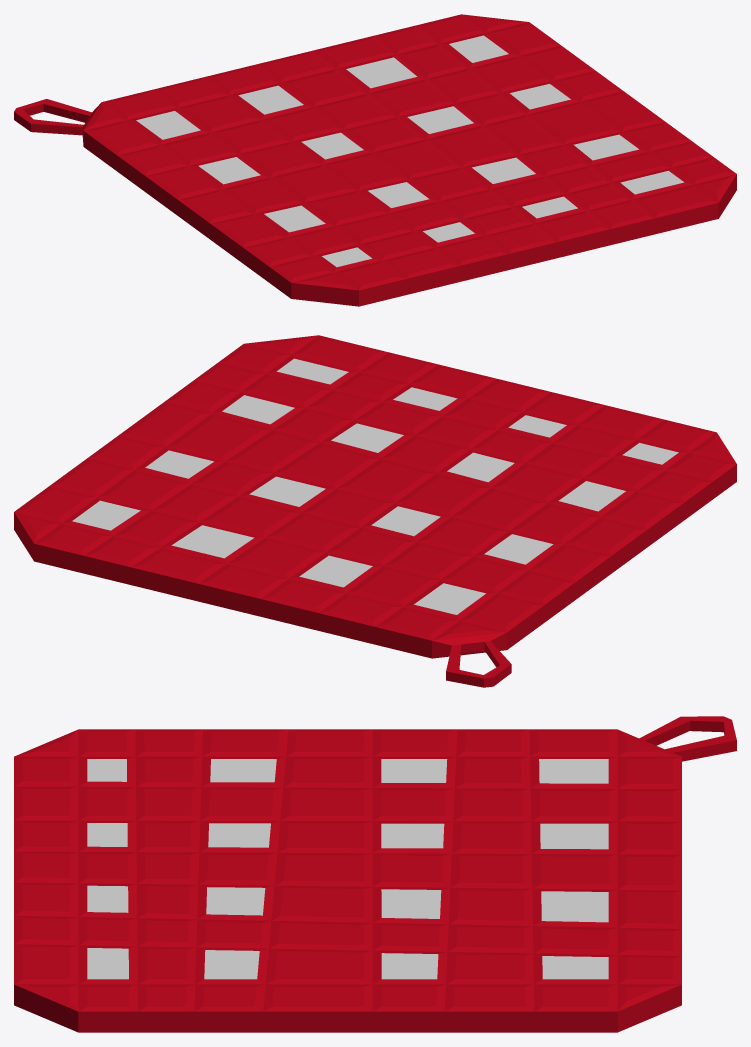
Rendered from Kärpänen_PataLappu.fbx.
3 views of the same model, one above another, from view 1: azimuth 30°, elevation 25°; view 2: azimuth 150°, elevation 25°; view 3: azimuth 270°, elevation 25° (orthographic). The views are drawn at different scales.
Visible parts, largest first — view 1: Cube.103; view 2: Cube.103; view 3: Cube.103.
Boxes of the visible parts, box(x1,y1,x2,y2) form: Cube.103: box(14, 14, 736, 306); Cube.103: box(14, 335, 736, 687); Cube.103: box(14, 716, 736, 1032).
Size of the model in its own units: 381 by 13.99 by 388.
